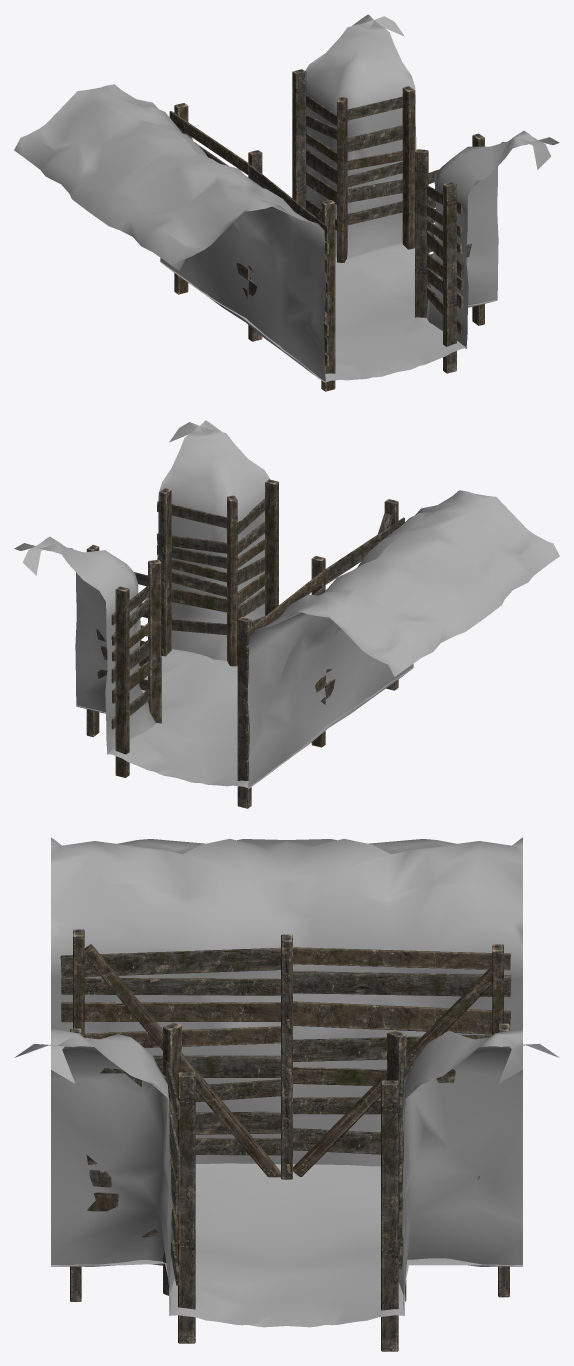
File: Ground_T_Intersection_Wood.fbx
3 renders of one model, top to bottom at view 1: azimuth 30°, elevation 25°; view 2: azimuth 150°, elevation 25°; view 3: azimuth 270°, elevation 25°, orthographic. The views are drawn at different scales.
Visible parts, largest first — view 1: Ground_T_Intersection_Wood_LOD0; view 2: Ground_T_Intersection_Wood_LOD0; view 3: Ground_T_Intersection_Wood_LOD0.
Boxes of the visible parts, <box> form: Ground_T_Intersection_Wood_LOD0: <box>14,14,559,391</box>; Ground_T_Intersection_Wood_LOD0: <box>14,420,559,808</box>; Ground_T_Intersection_Wood_LOD0: <box>14,837,559,1351</box>.
Size of what is drawn, in the model's own units: 545 by 294 by 463.
